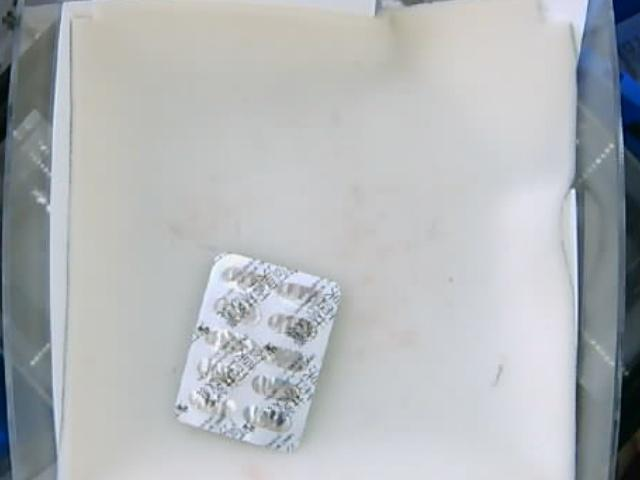Medicine: (170, 253, 339, 454)
